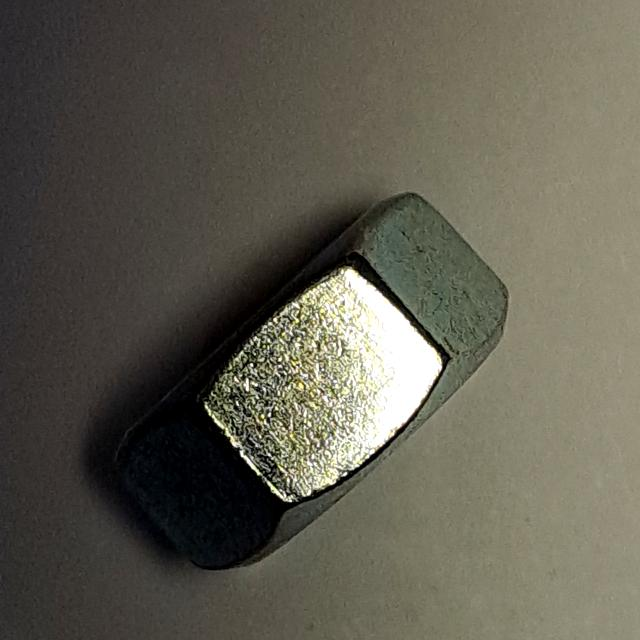Side_Excellent: (100, 177, 519, 596)
